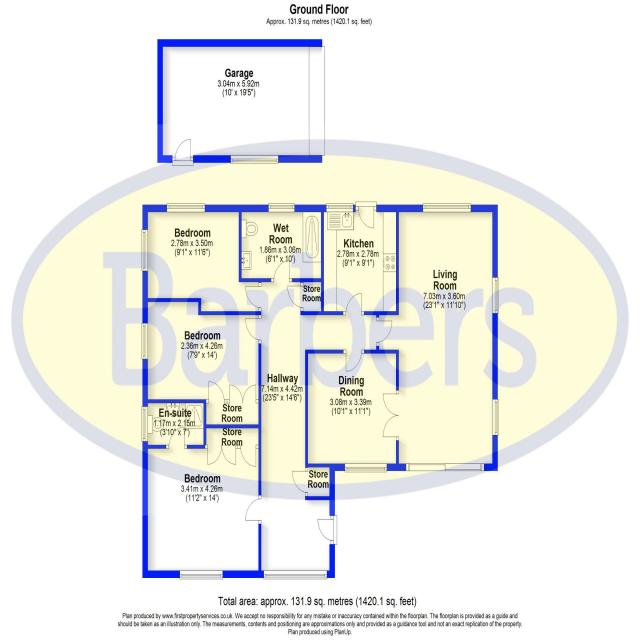DOOR: (355, 201, 377, 229), (317, 515, 337, 545), (342, 349, 365, 373), (376, 316, 393, 347), (245, 494, 262, 525), (245, 314, 262, 344), (245, 282, 262, 312), (166, 426, 188, 449), (343, 293, 365, 315), (270, 260, 292, 282)
DOUBLE DOOR: (382, 389, 399, 441)
ROOM: (376, 203, 499, 471), (142, 424, 262, 580), (140, 297, 262, 429), (141, 203, 262, 316), (305, 349, 400, 473), (321, 201, 399, 316)
WINDOW: (405, 463, 485, 472), (263, 570, 328, 580), (422, 202, 471, 213), (179, 570, 223, 580), (344, 463, 387, 473), (166, 203, 205, 213), (326, 202, 354, 213), (141, 322, 149, 360), (141, 229, 148, 272), (268, 203, 295, 213), (492, 399, 499, 436), (492, 277, 499, 314), (141, 406, 148, 442)
